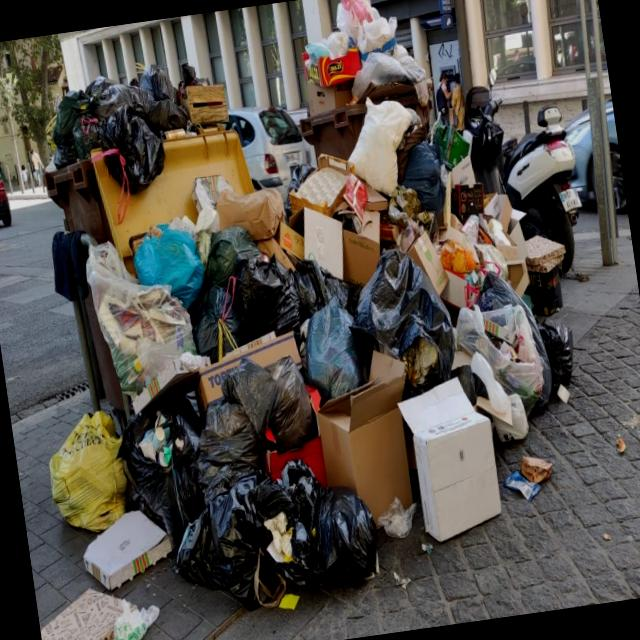garbage: (39, 32, 574, 566)
